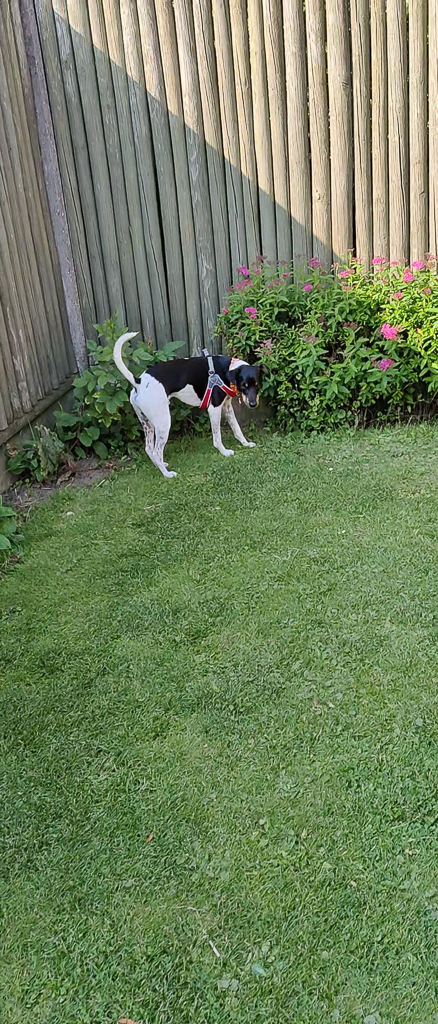Dog: (104, 325, 276, 481)
